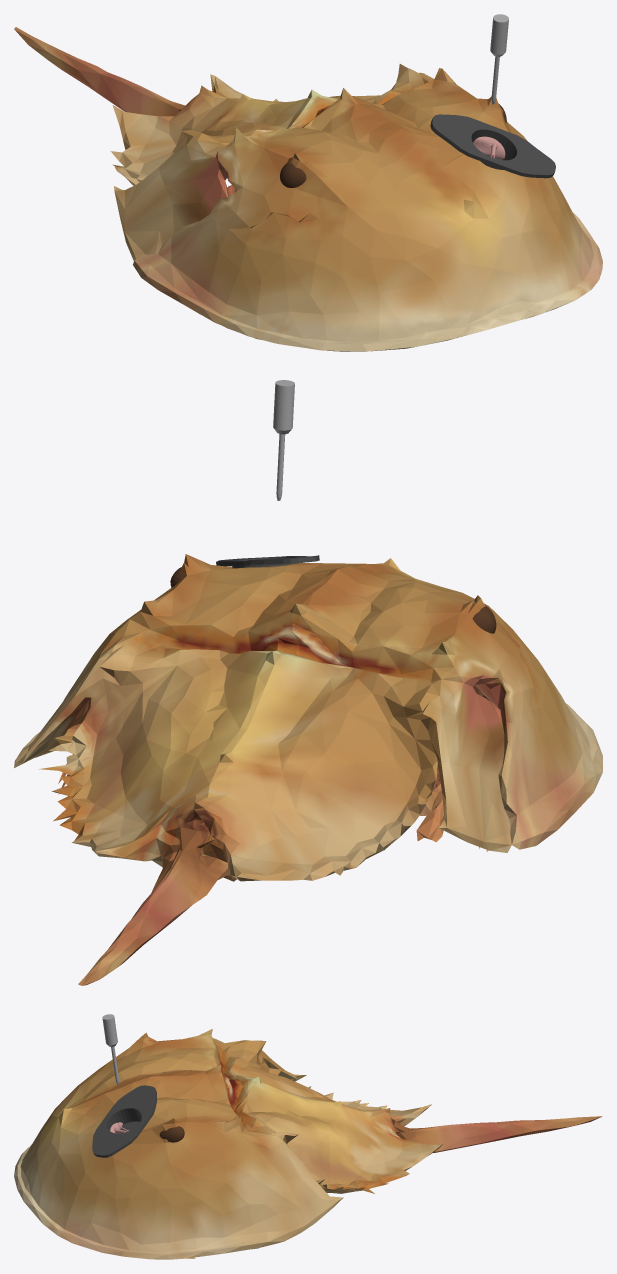
Rendered from electrode_hscrab.glb.
3 renders of one model, top to bottom at view 1: azimuth 30°, elevation 25°; view 2: azimuth 150°, elevation 25°; view 3: azimuth 270°, elevation 25°, orthographic. The views are drawn at different scales.
Parts seen in each view (by area): view 1: HorseShoeCrab.001, Plane.002, Cylinder.003, Sphere.004; view 2: HorseShoeCrab.001, Cylinder.003, Plane.002; view 3: HorseShoeCrab.001, Plane.002, Cylinder.003.
Boxes of the visible parts, <box> form: HorseShoeCrab.001: <box>14,27,602,351</box>; Plane.002: <box>430,114,555,178</box>; Cylinder.003: <box>490,14,508,104</box>; Sphere.004: <box>280,162,306,187</box>; HorseShoeCrab.001: <box>14,554,602,985</box>; Cylinder.003: <box>273,380,294,500</box>; Plane.002: <box>216,555,319,568</box>; HorseShoeCrab.001: <box>14,1029,602,1259</box>; Plane.002: <box>92,1085,156,1157</box>; Cylinder.003: <box>102,1014,119,1084</box>.
Bounding box in the file's own units: 3.9 × 2.52 × 6.53.
5 materials, 5 textured.
